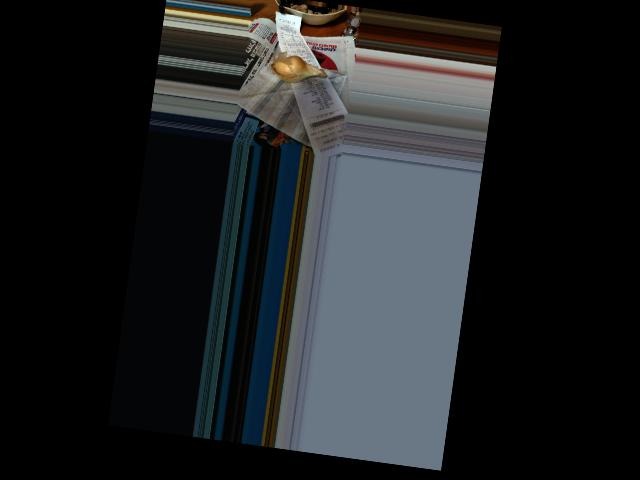onion: (268, 50, 322, 87)
